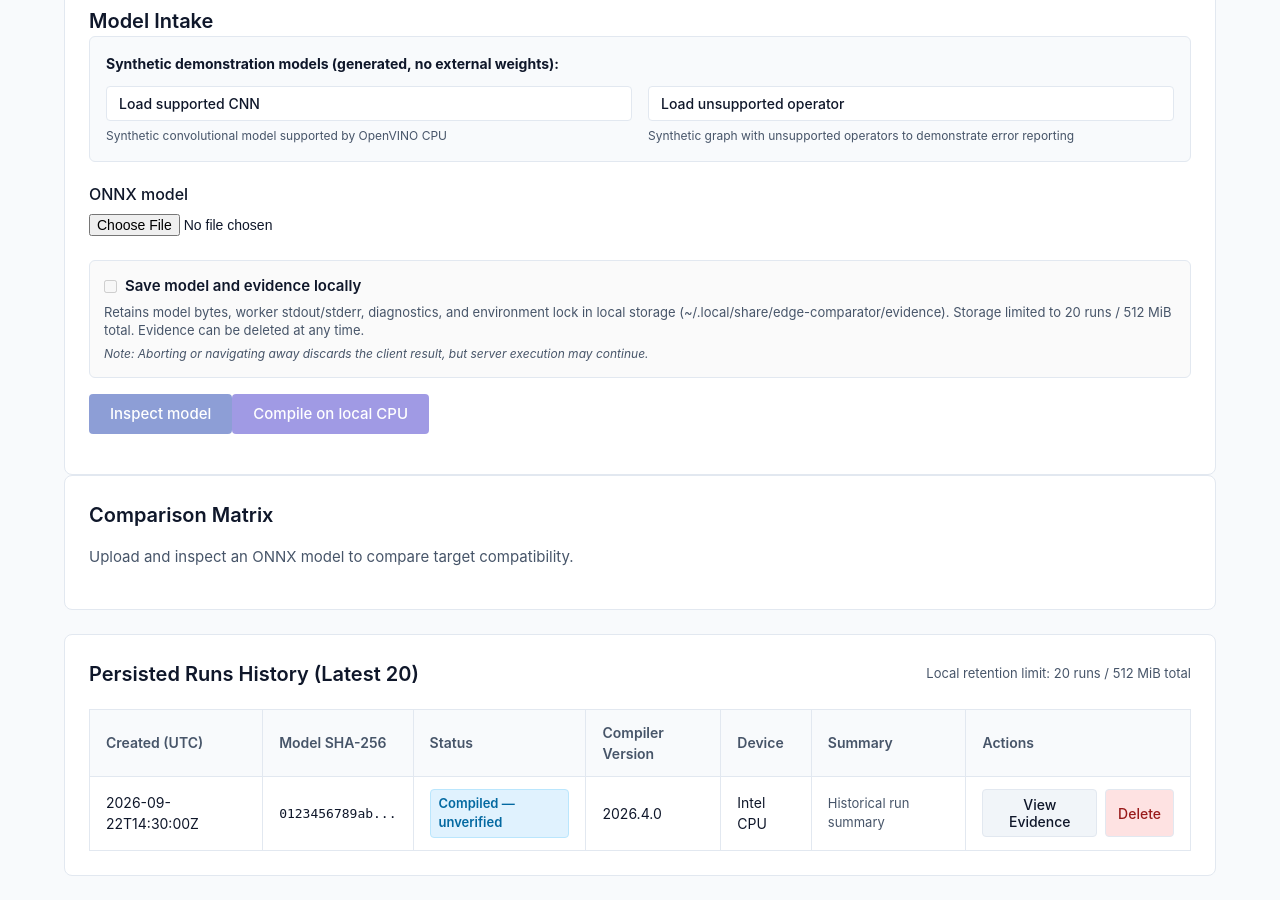
Test: App integration › handles error when viewing a historical run
(page scrolled)
Expected: the text "Historical run summary" is shown, x1=811 y1=776 x2=966 y2=850
What coordinates should you click on to do the following:
click the button "View Evidence"
I would click on:
 (1040, 813)
Its box is x1=982 y1=789 x2=1097 y2=837.
(page scrolled)
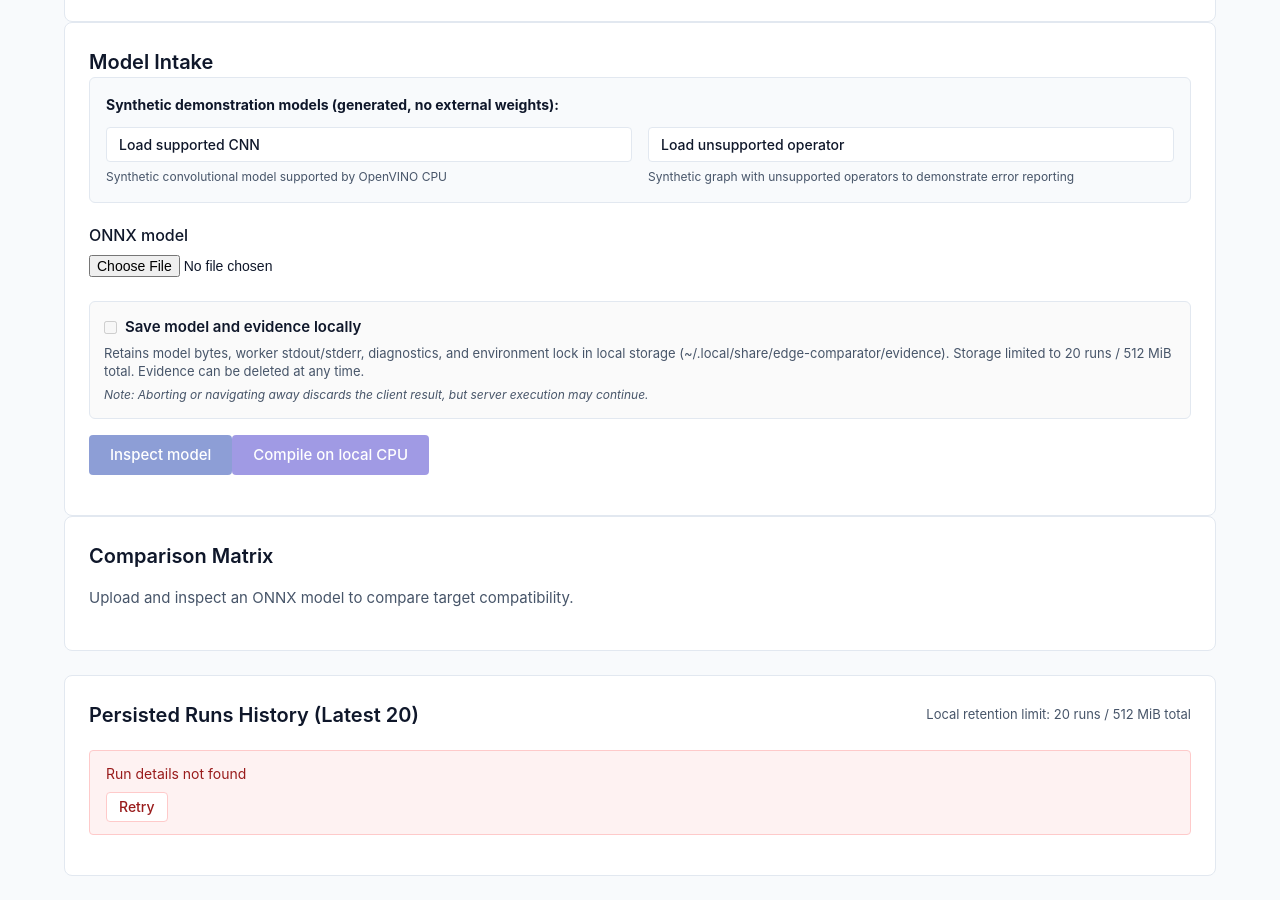
Result: the text "Run details not found" is shown at x1=106 y1=764 x2=246 y2=782
